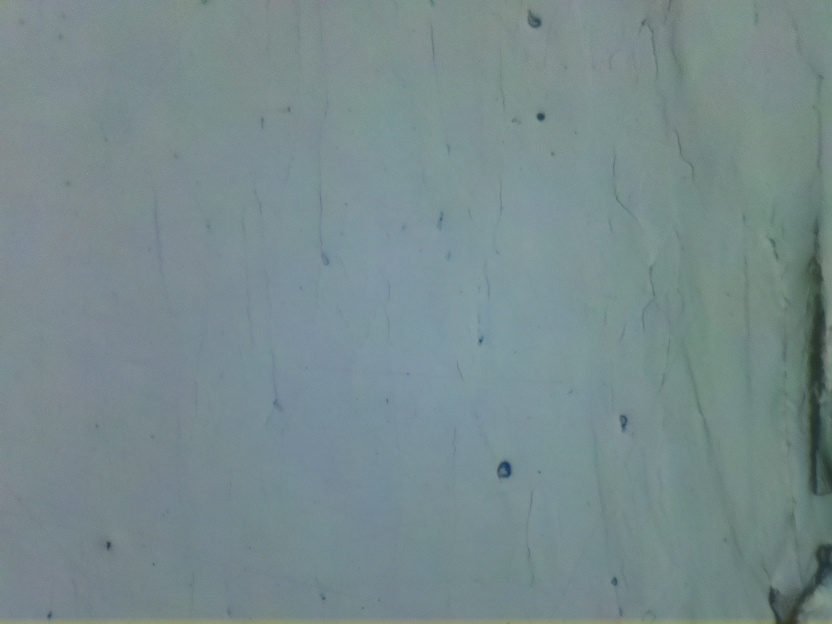crack: (764, 220, 832, 499)
